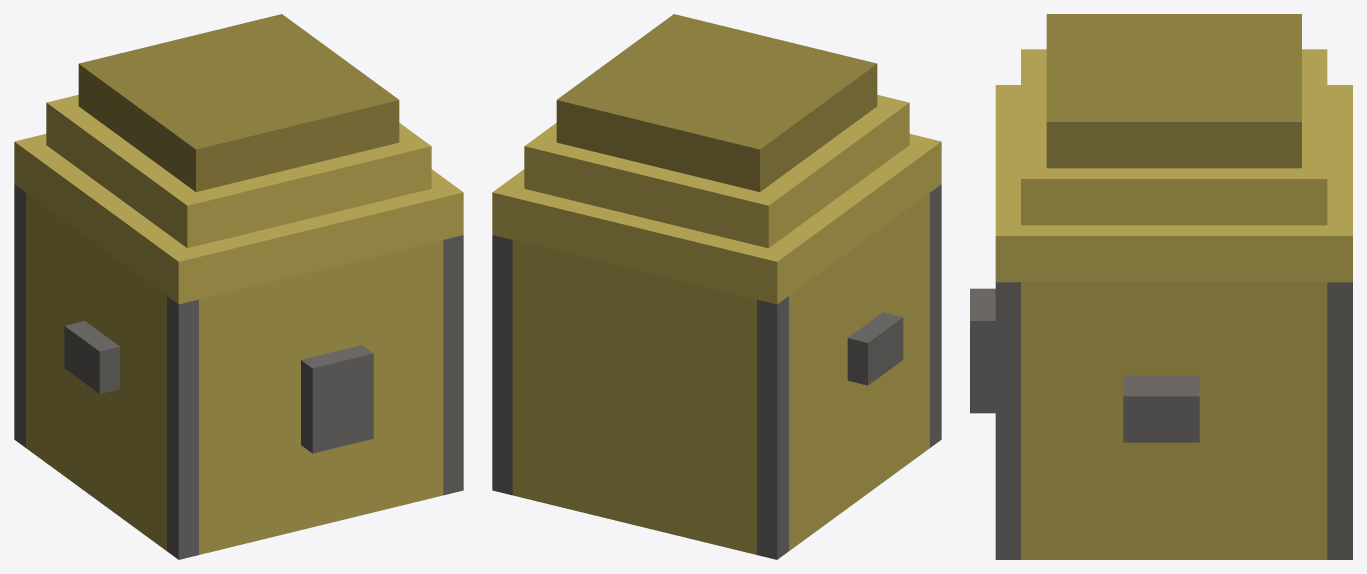
The model's file is baul_tesoro_desgastada_01.glb.
The picture shows the model from 3 angles, left to right: view 1: azimuth 30°, elevation 25°; view 2: azimuth 150°, elevation 25°; view 3: azimuth 270°, elevation 25°; orthographic projection. The views are drawn at different scales.
Parts seen in each view (by area): view 1: baul_tesoro_desgastada; view 2: baul_tesoro_desgastada; view 3: baul_tesoro_desgastada.
Part boxes in pixels (left/top/right/bottom): baul_tesoro_desgastada: left=14, top=14, right=463, bottom=559; baul_tesoro_desgastada: left=492, top=14, right=941, bottom=559; baul_tesoro_desgastada: left=970, top=14, right=1352, bottom=559.
Size of the model in its own units: 1.21 by 1.29 by 1.07.
